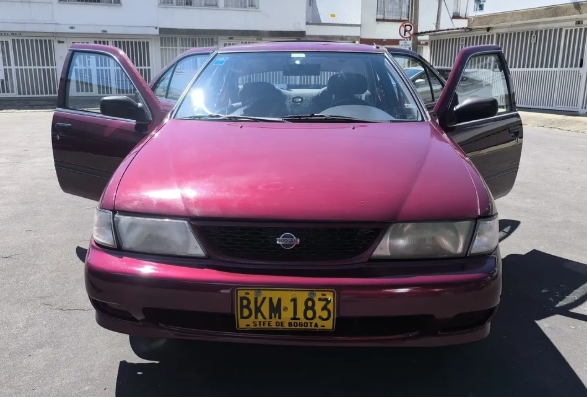placa: (233, 287, 342, 333)
